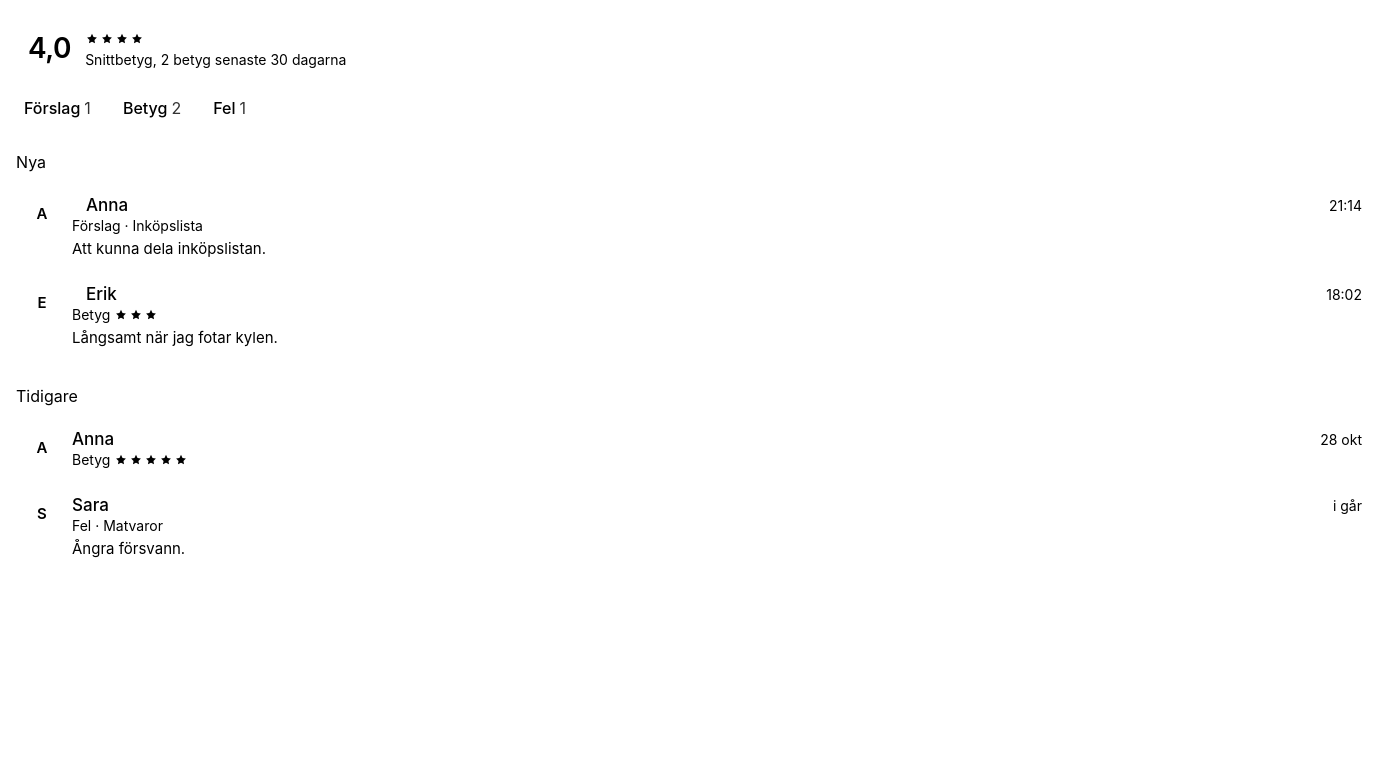
Test: Inbox › filters on one kind at a time, and shows everything again when the chip is tapped once more
This screenshot has width=1390, height=768.
What coordinates should you click on to do the following:
click the button "Betyg 2"
I would click on:
 (152, 108)
Its box is [111, 92, 193, 124].
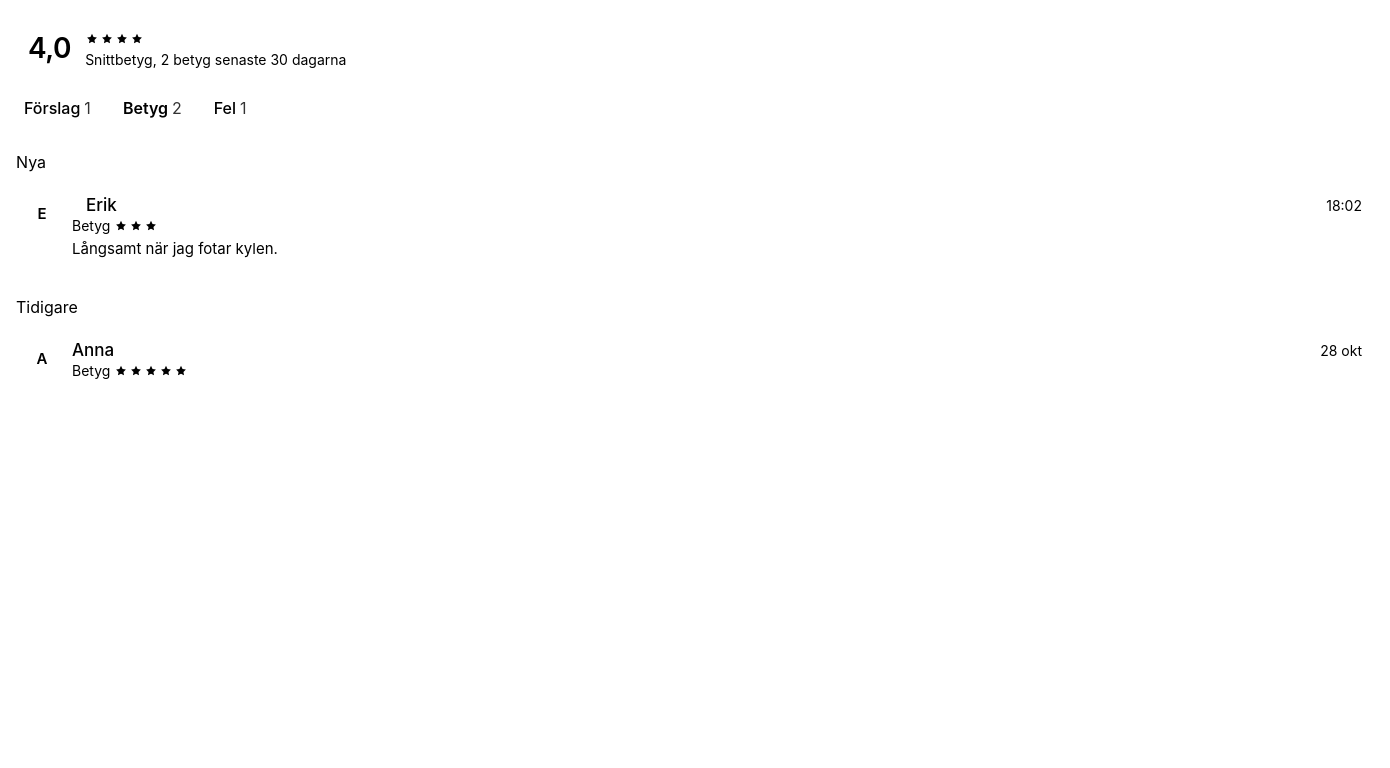
Now the number of buttons with test id "inbox-message" is 2, box [12, 182, 1378, 271]; [12, 327, 1378, 393]
What coordinates should you click on to do the following:
click the button "Fel 1"
I would click on:
 (230, 108)
Its box is [202, 92, 259, 124].
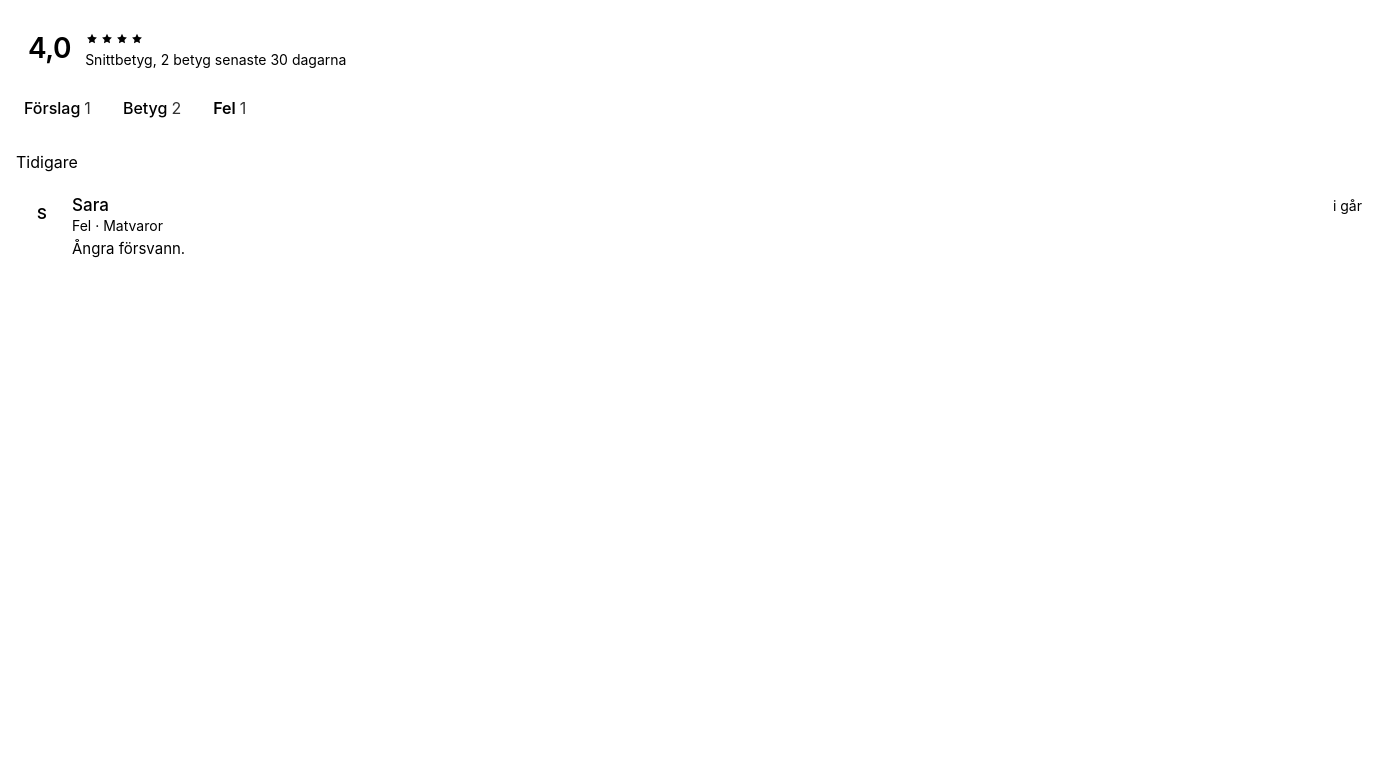
Now the number of buttons with test id "inbox-message" is 1, box [12, 182, 1378, 271]
What coordinates should you click on to do the following:
click the button "Fel 1"
I would click on:
 (230, 108)
Its box is [201, 92, 258, 124].
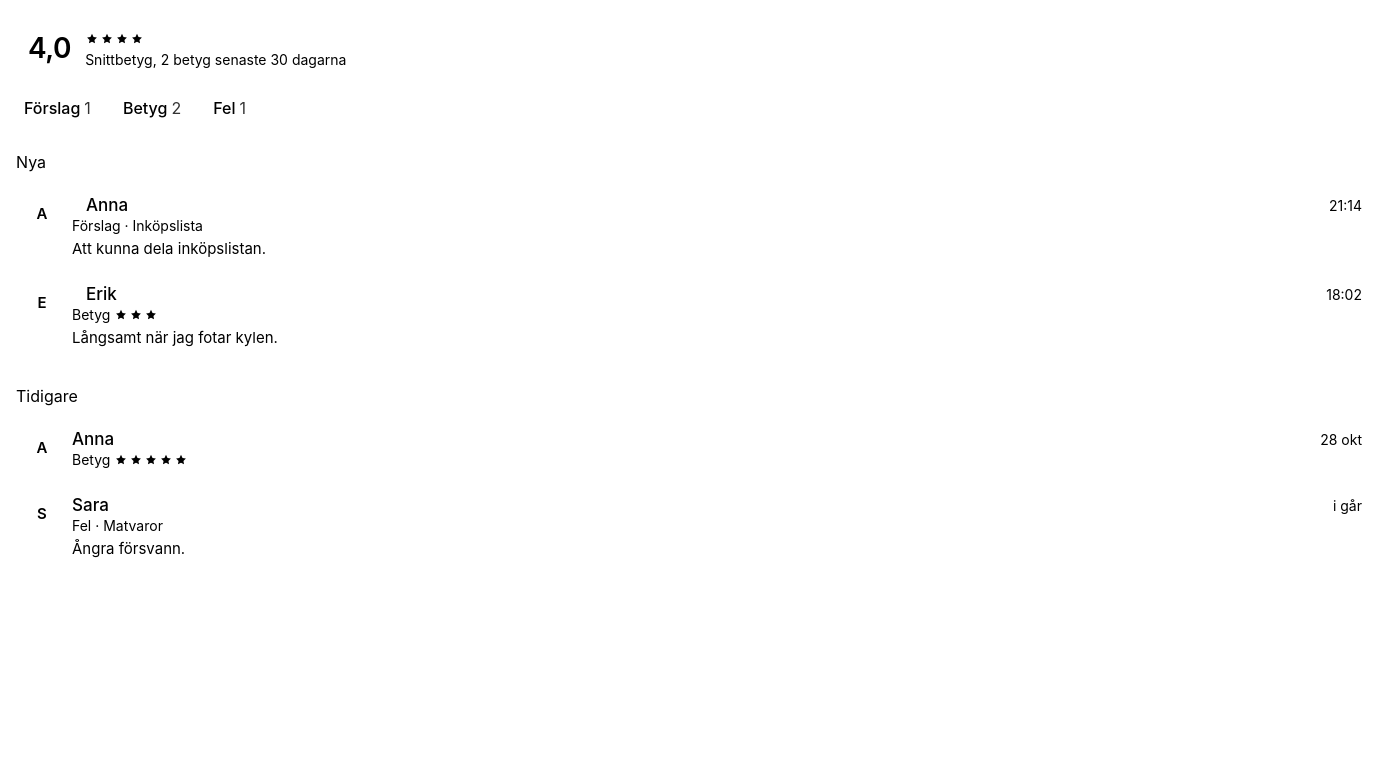
Now the number of buttons with test id "inbox-message" is 4, box [12, 182, 1378, 271]; [12, 271, 1378, 360]; [12, 416, 1378, 482]; [12, 482, 1378, 571]
